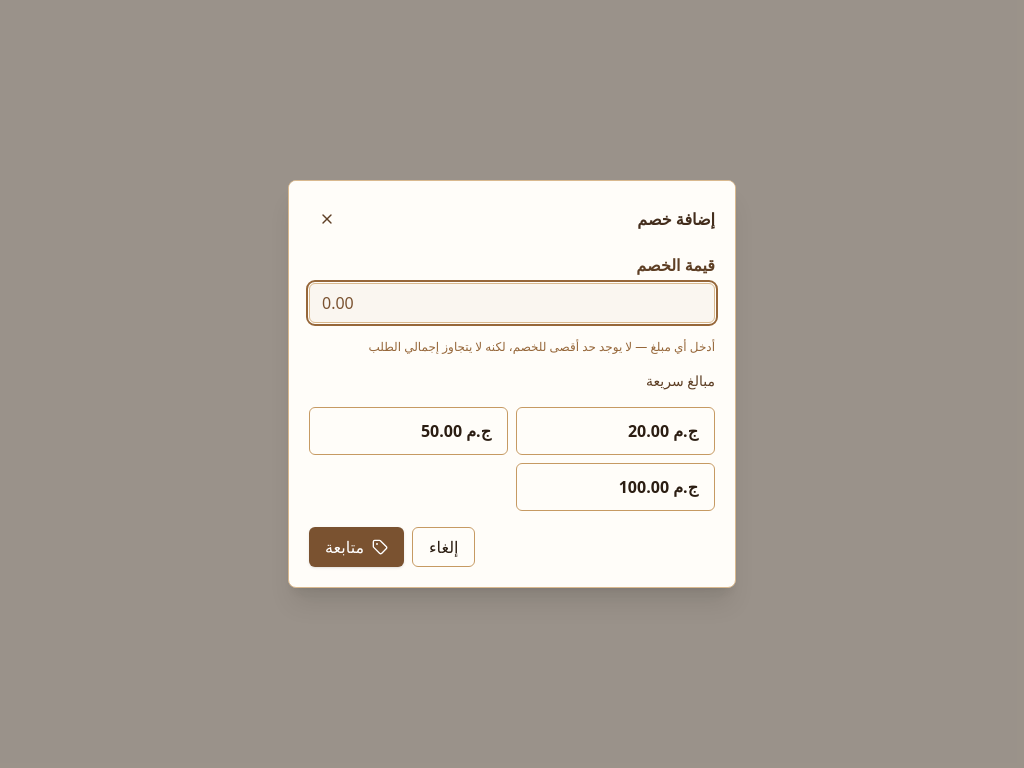
Test: DiscountDialog › asks for the cafe-wide shared 4-digit PIN, not a per-cashier password
The width and height of the screenshot is (1024, 768).
Type "50" into the field labelled "قيمة الخصم". click: (512, 303)
box: [309,283,715,323]
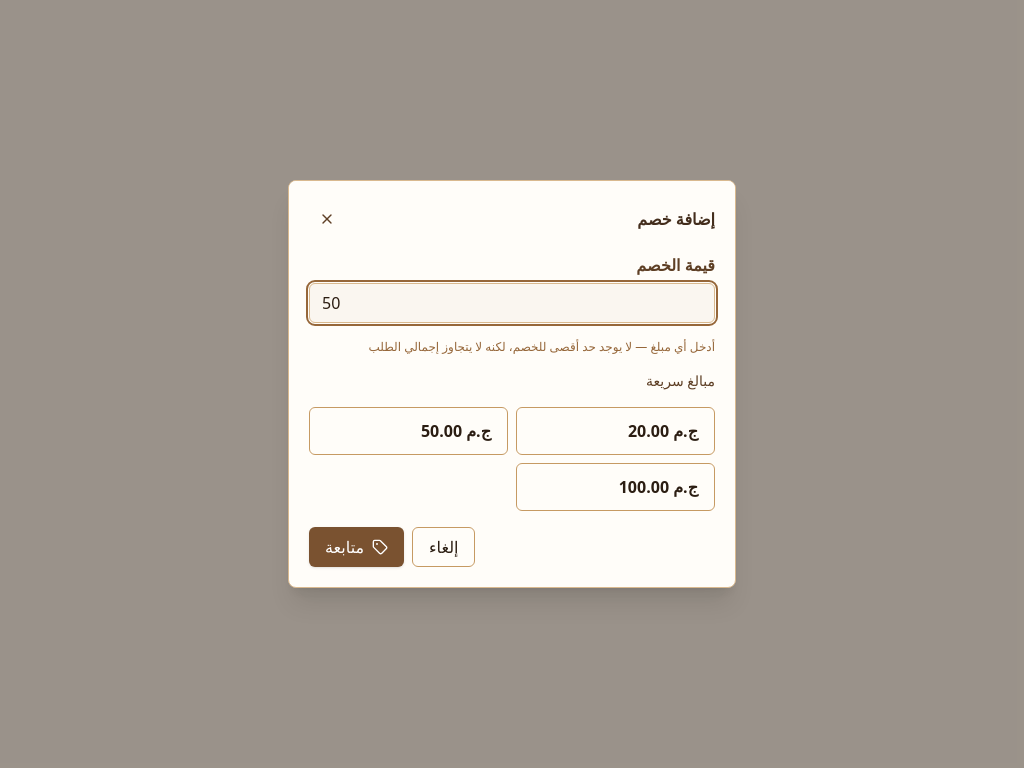
Click the button "متابعة". click: (356, 547)
box: [309,527,404,567]
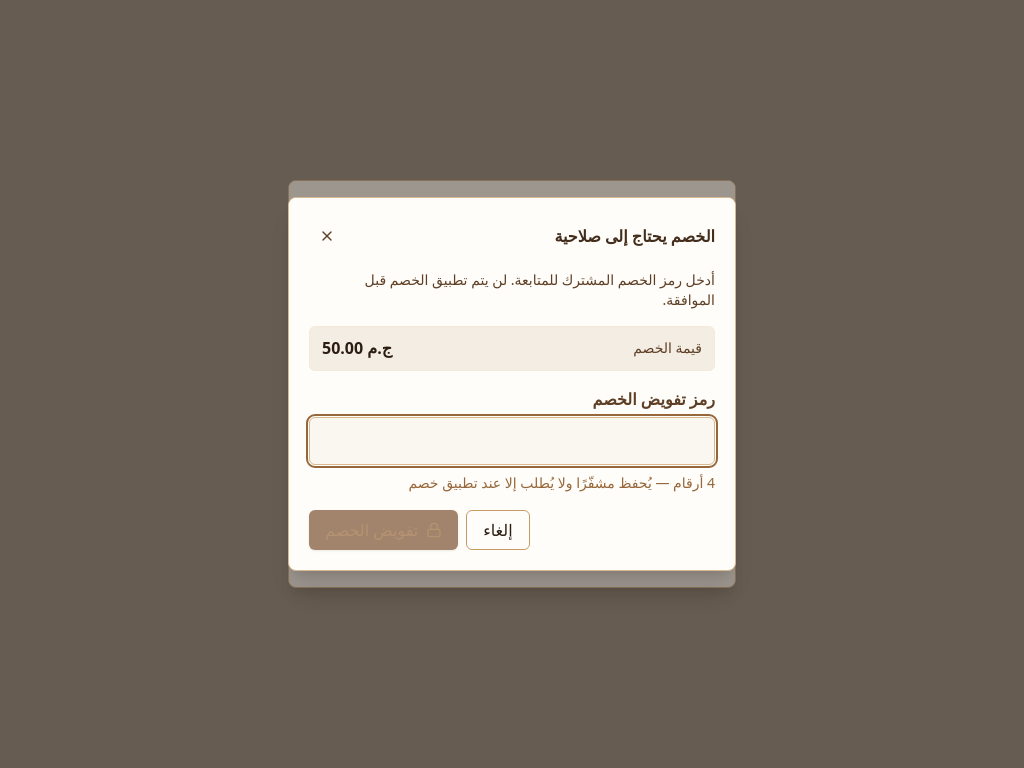
Expected: the text "4 أرقام — يُحفظ مشفّرًا ولا يُطلب إلا عند تطبيق خصم" is shown, [408,473,715,492]
